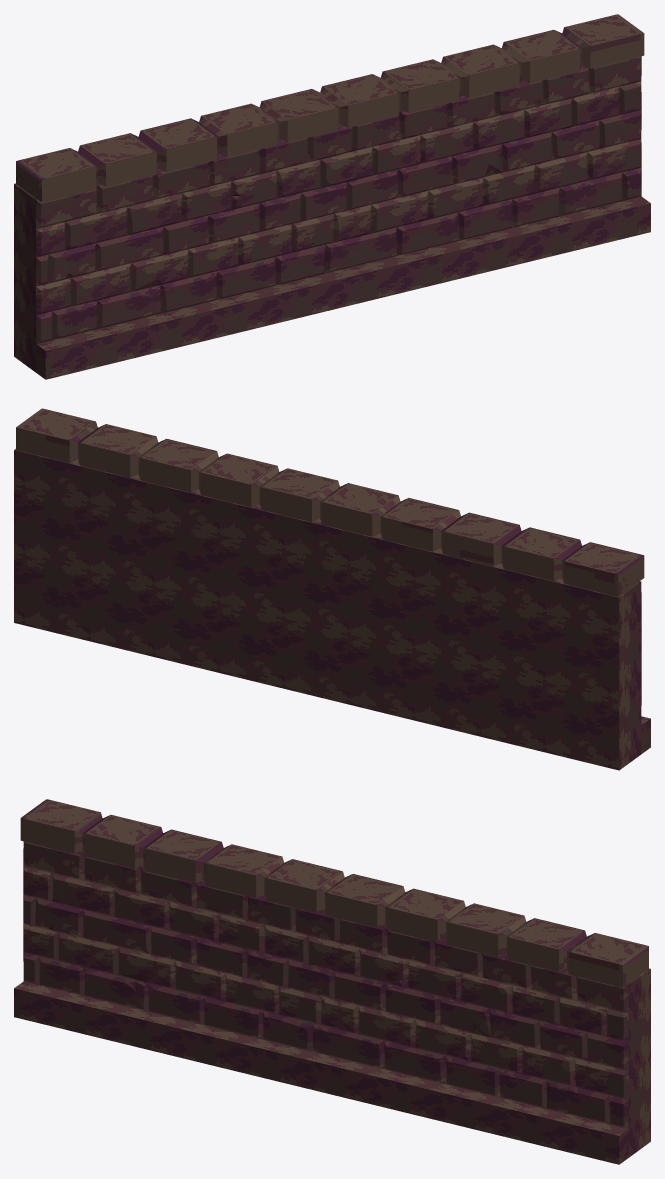
The model's file is brick_wall.fbx.
3 renders of one model, top to bottom at view 1: azimuth 30°, elevation 25°; view 2: azimuth 150°, elevation 25°; view 3: azimuth 330°, elevation 25°, orthographic.
Visible parts, largest first — view 1: Wall_Top; view 2: Wall_Top; view 3: Wall_Top.
Part boxes in pixels (box(x1,y1,x2,y2)): Wall_Top: box(14, 14, 650, 379); Wall_Top: box(14, 408, 650, 770); Wall_Top: box(14, 799, 650, 1164).
Bounding box in the file's own units: 2201 × 679 × 199.
2 materials, 2 textured.
